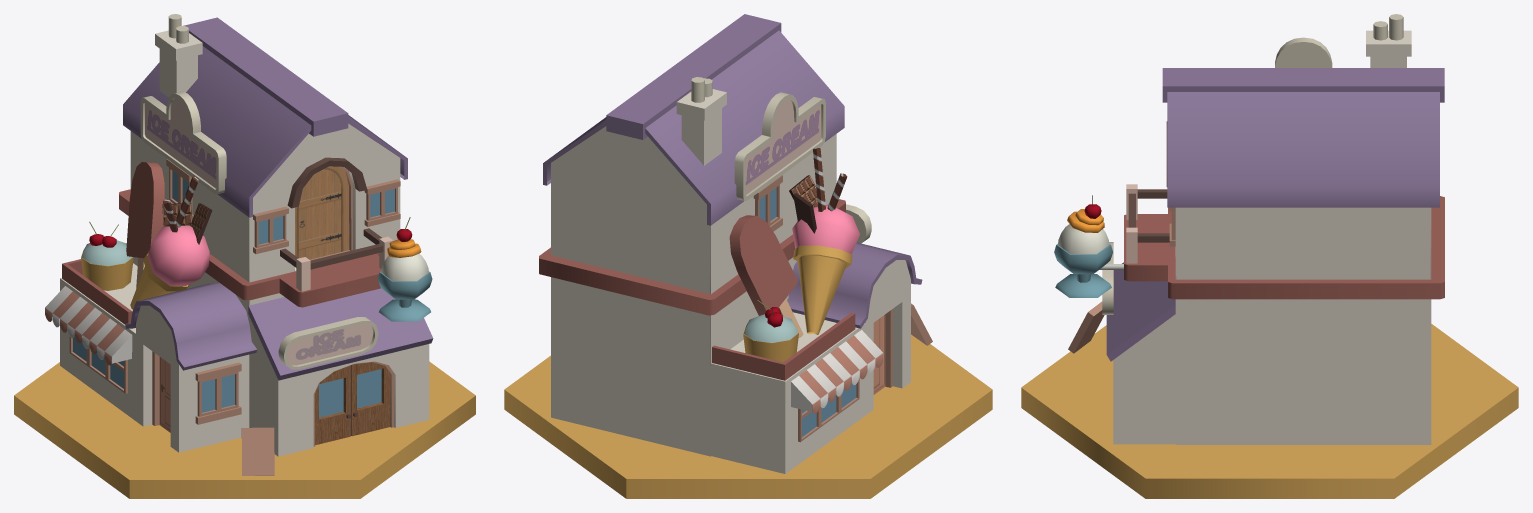
Rendered from HouseIceCream.fbx.
3 renders of one model, left to right at view 1: azimuth 30°, elevation 25°; view 2: azimuth 150°, elevation 25°; view 3: azimuth 270°, elevation 25°, orthographic. The views are drawn at different scales.
Parts seen in each view (by area): view 1: HouseIceCream; view 2: HouseIceCream; view 3: HouseIceCream.
Boxes of the visible parts, x1=… form: HouseIceCream: x1=14, y1=14, x2=475, y2=498; HouseIceCream: x1=504, y1=14, x2=992, y2=498; HouseIceCream: x1=1021, y1=14, x2=1518, y2=498.
Size of the model in its own units: 393 by 387 by 453.
Materials: 1 (1 with a texture image).
